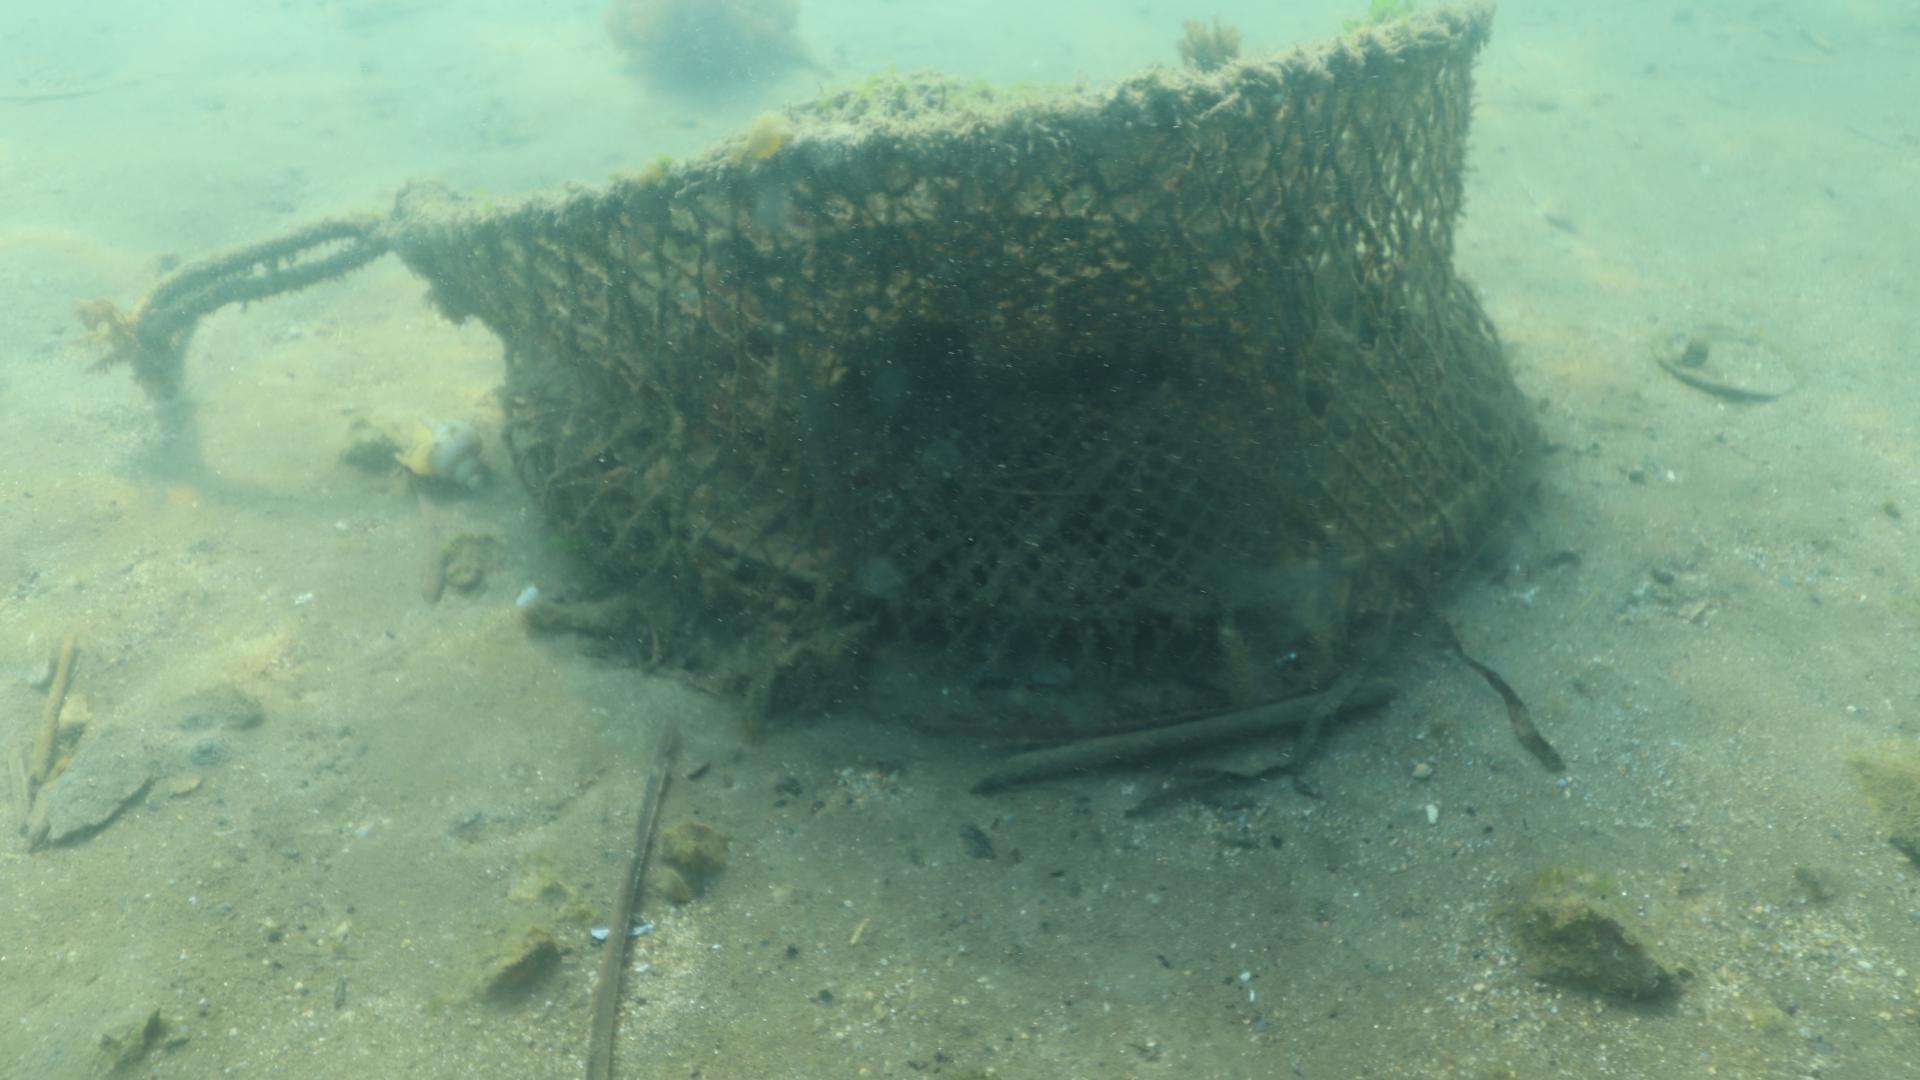bundle of ropes: (131, 210, 393, 342)
circular fish trap: (401, 3, 1544, 721)
